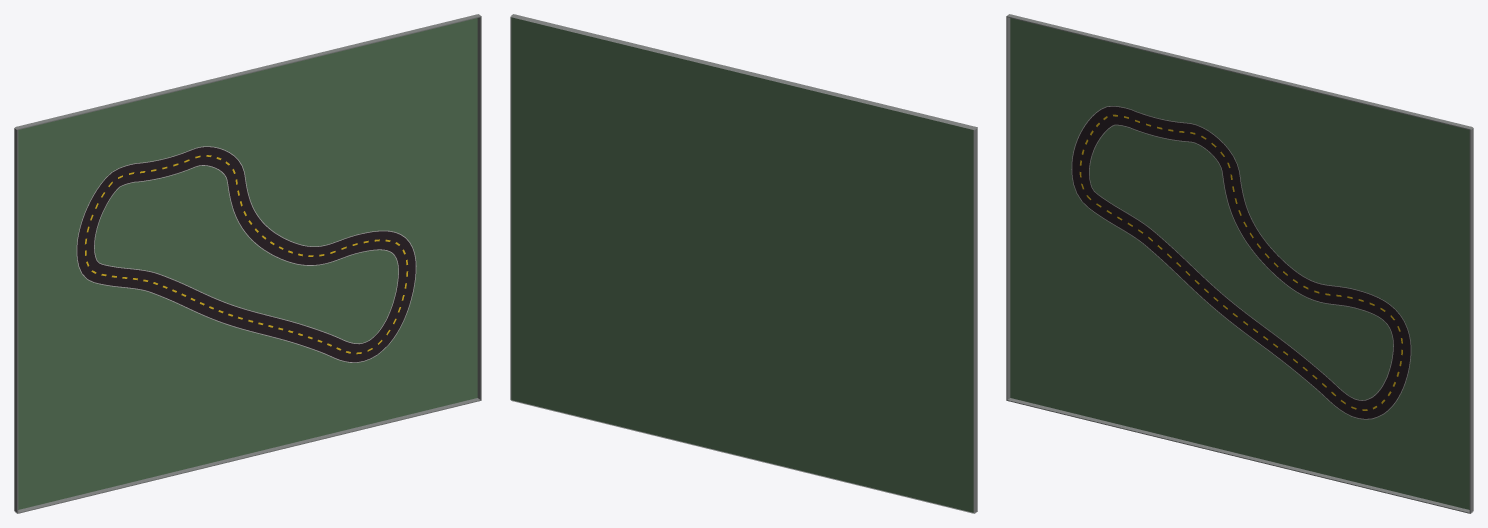
The model's file is track.obj.
3 views of the same model, side by side, from view 1: azimuth 30°, elevation 25°; view 2: azimuth 150°, elevation 25°; view 3: azimuth 330°, elevation 25° (orthographic).
Bounding box in the file's own units: 27.16 × 21.51 × 0.3.
Materials: 5 (5 with a texture image).
